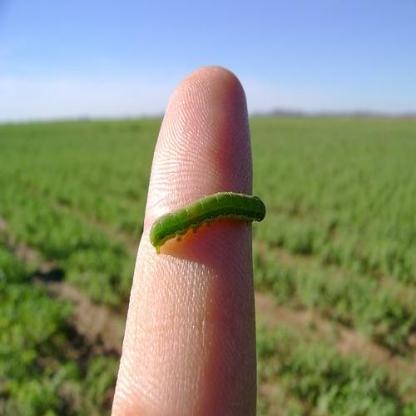armyworm: (147, 185, 268, 272)
